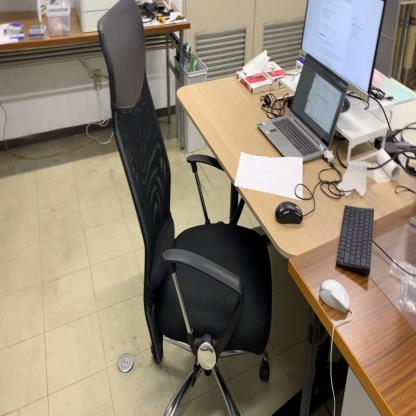chair: (98, 0, 274, 416)
